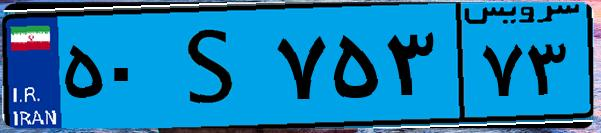0: (110, 28, 158, 98)
3: (385, 28, 445, 110), (525, 38, 570, 115)
5: (330, 28, 385, 110), (57, 26, 110, 100)
7: (270, 28, 330, 110), (475, 38, 525, 113)
S: (158, 12, 270, 120)
